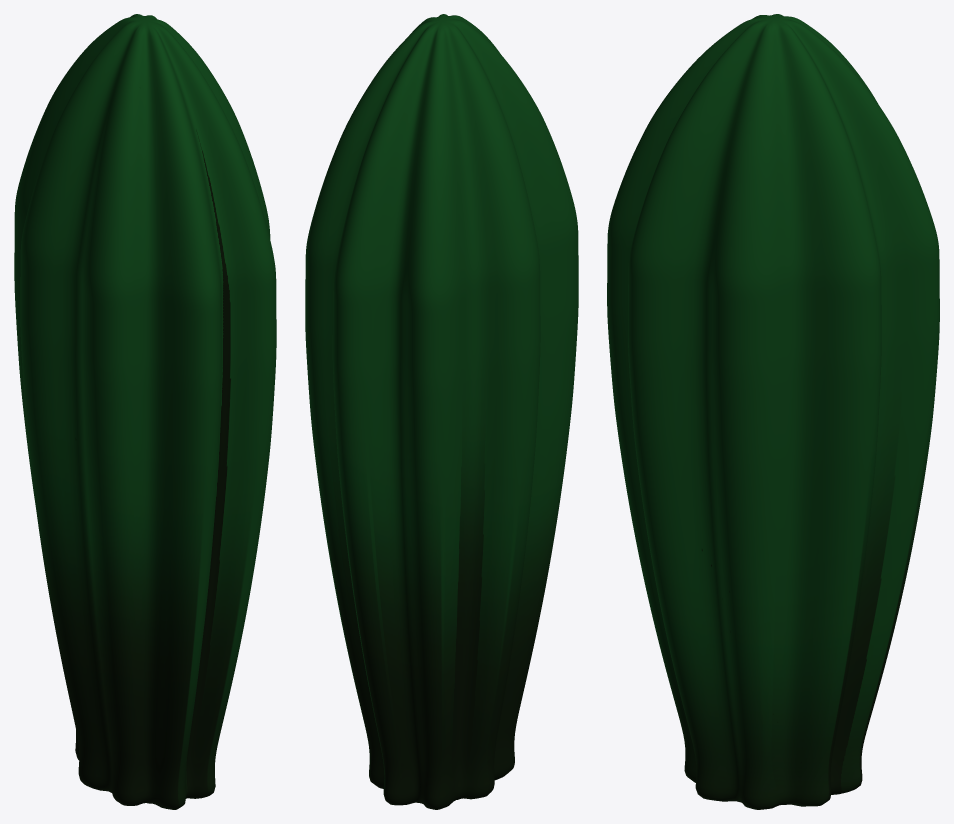
File: cactus.obj
3 views of the same model, side by side, from view 1: azimuth 30°, elevation 25°; view 2: azimuth 150°, elevation 25°; view 3: azimuth 270°, elevation 25° (orthographic).
Parts seen in each view (by area): view 1: Группа, off; view 2: Группа, off; view 3: Группа, off.
Boxes of the visible parts, bbox=[...] form: Группа: bbox=[14, 14, 276, 809]; off: bbox=[21, 15, 254, 807]; Группа: bbox=[305, 14, 578, 809]; off: bbox=[317, 14, 563, 806]; Группа: bbox=[607, 14, 939, 809]; off: bbox=[618, 15, 917, 808].
Bounding box in the file's own units: 1.06 × 3.63 × 1.42.
